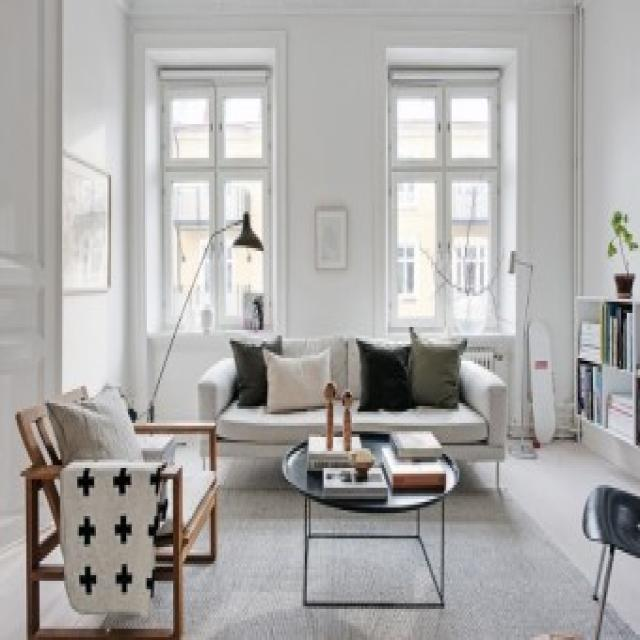Chair: (15, 379, 232, 635)
Sofa: (198, 327, 522, 489)
Table: (282, 427, 458, 618)
window: (162, 55, 266, 324), (392, 72, 497, 327)
